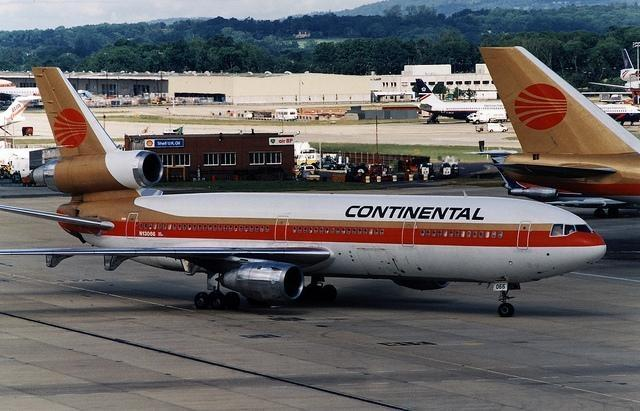bus: (275, 108, 298, 120)
truck: (472, 109, 507, 123), (486, 123, 508, 133)
